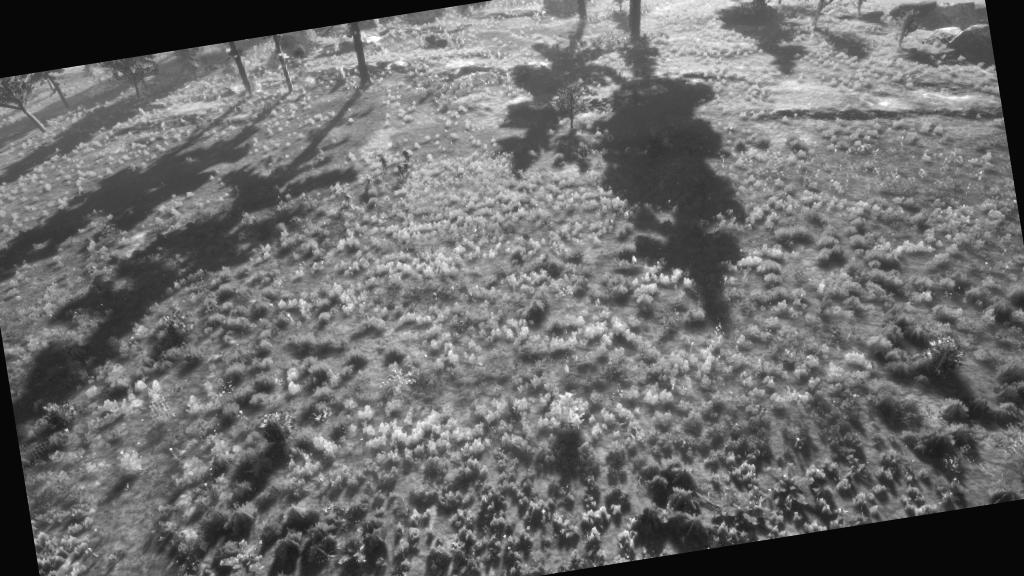Fire: (277, 63, 319, 94), (226, 71, 266, 100)
human: (400, 144, 416, 164), (376, 152, 390, 173), (341, 186, 352, 207), (394, 160, 404, 180), (401, 161, 412, 178), (362, 174, 374, 188)
